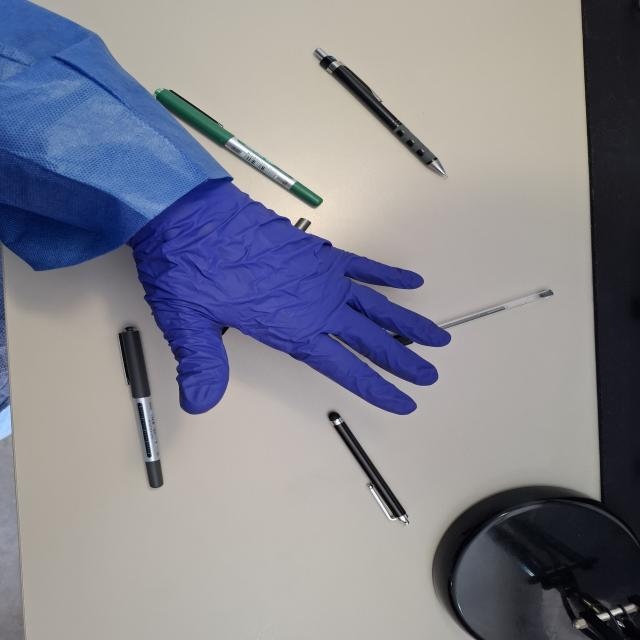glove_on: (124, 178, 454, 417)
